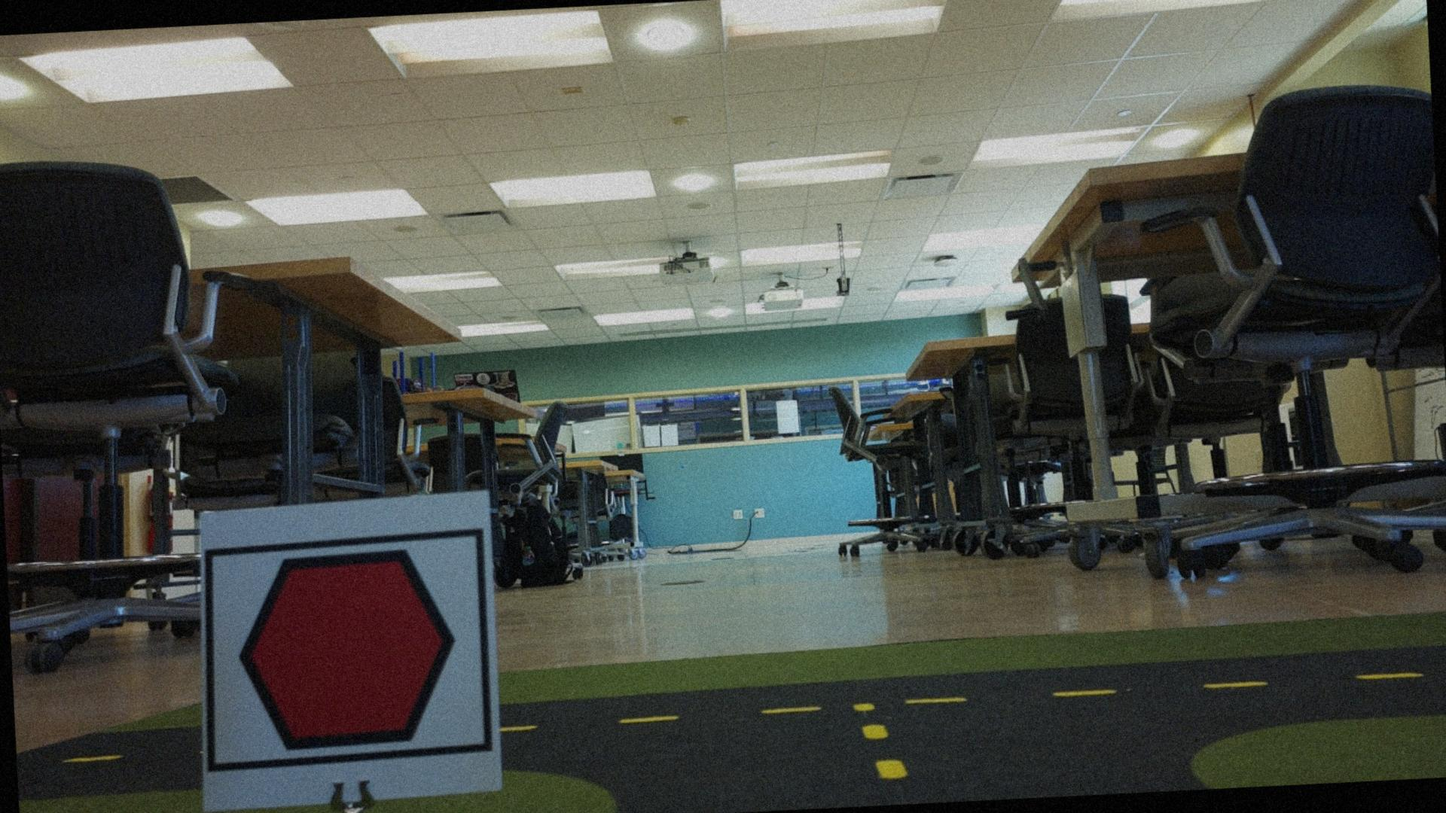stop: (217, 540, 474, 758)
yellowline: (854, 699, 908, 783)
